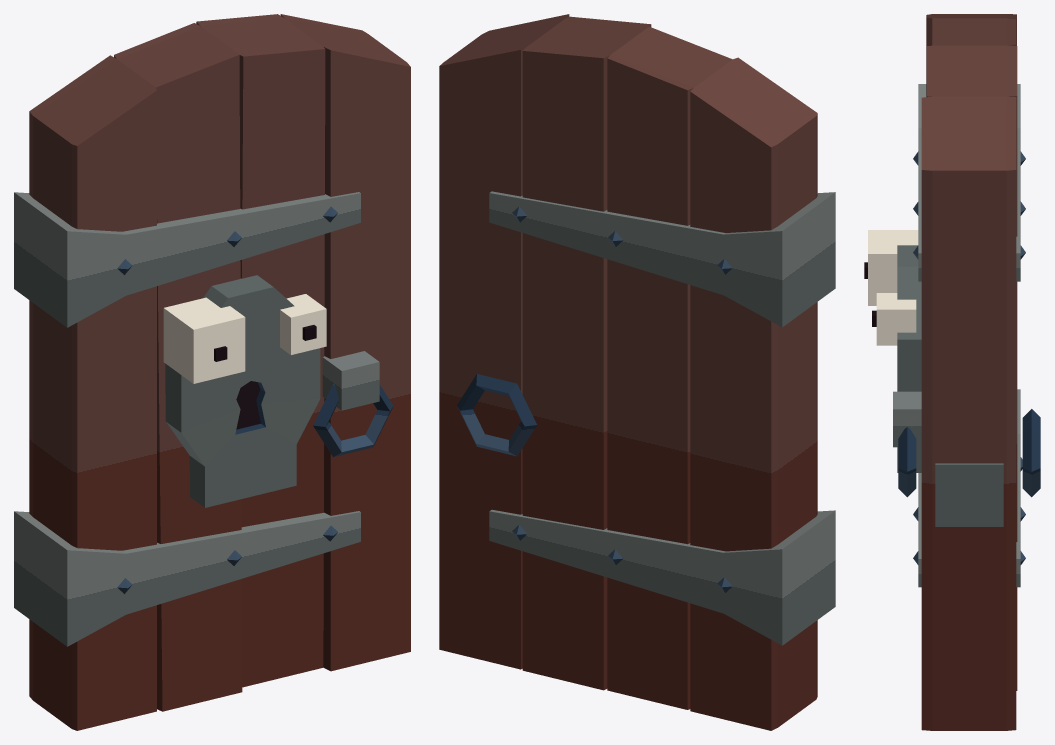
Rendered from Door.fbx.
3 renders of one model, left to right at view 1: azimuth 30°, elevation 25°; view 2: azimuth 150°, elevation 25°; view 3: azimuth 270°, elevation 25°, orthographic. The views are drawn at different scales.
Visible parts, largest first — view 1: Door, Lock, Lock_Eye_Right, Lock_Eye_Left; view 2: Door; view 3: Door, Lock, Lock_Eye_Right, Lock_Eye_Left.
Part boxes in pixels (<box>): Door: <box>14,14,410,730</box>; Lock: <box>165,275,320,507</box>; Lock_Eye_Right: <box>163,297,245,383</box>; Lock_Eye_Left: <box>280,294,326,354</box>; Door: <box>439,14,835,730</box>; Door: <box>893,14,1040,730</box>; Lock: <box>897,245,921,472</box>; Lock_Eye_Right: <box>864,230,918,305</box>; Lock_Eye_Left: <box>872,293,916,345</box>.
Size of the model in its own units: 314 by 542 by 143.
